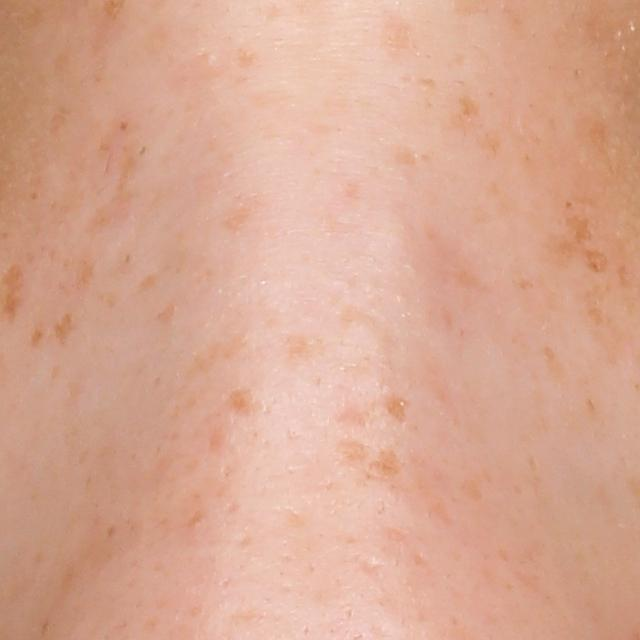melasma: (75, 138, 144, 236), (186, 328, 253, 379), (567, 105, 619, 163), (223, 387, 269, 418), (286, 332, 326, 367), (362, 446, 399, 483), (129, 268, 167, 304), (222, 197, 261, 232), (560, 215, 597, 251), (378, 392, 414, 428), (581, 284, 608, 329), (456, 468, 487, 507), (0, 260, 18, 321), (579, 245, 612, 278), (337, 438, 372, 469), (71, 255, 98, 293), (479, 127, 510, 159), (453, 95, 479, 130), (51, 311, 74, 350), (153, 297, 178, 329), (615, 261, 636, 294), (27, 323, 48, 351)
